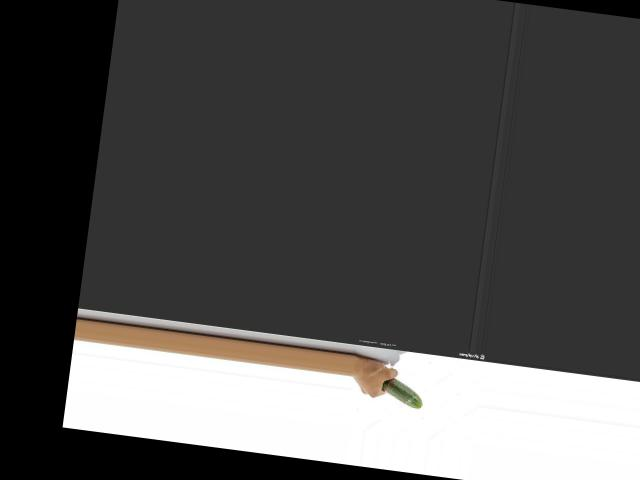cucumber: (379, 376, 424, 409)
